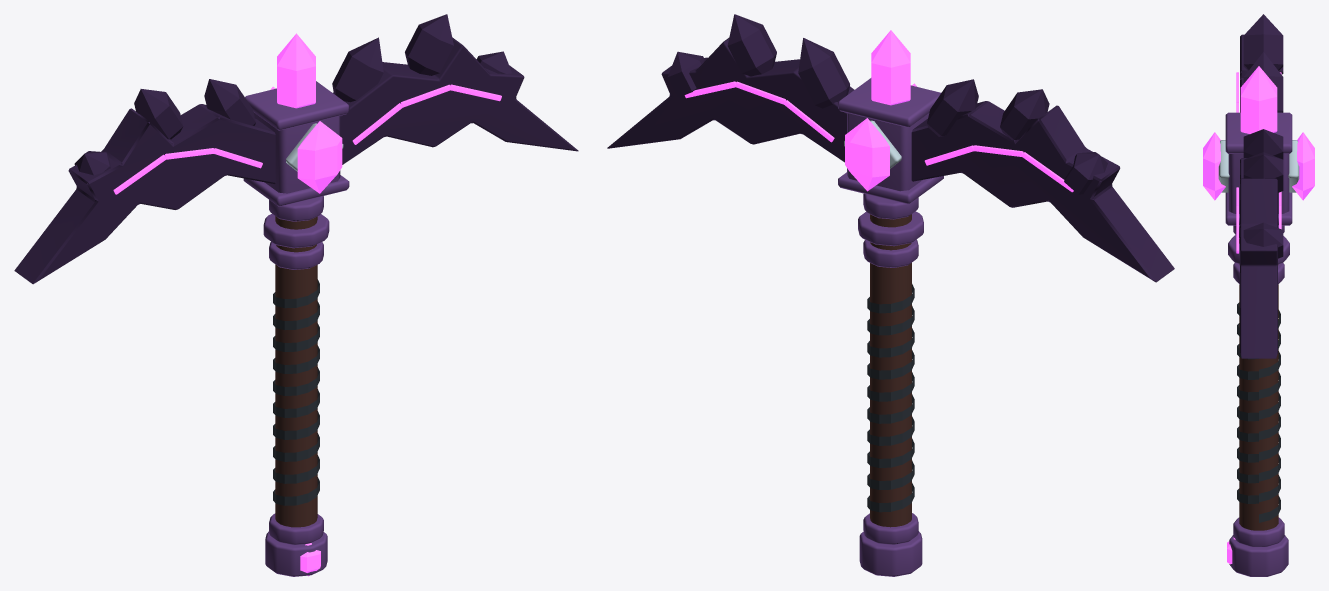
File: obsidiana.fbx
The picture shows the model from 3 angles, left to right: view 1: azimuth 30°, elevation 25°; view 2: azimuth 150°, elevation 25°; view 3: azimuth 270°, elevation 25°; orthographic projection. The views are drawn at different scales.
Visible parts, largest first — view 1: obsidiana__Obsidian_glass.001, obsidiana__Amethyst_metal.001, obsidiana__Leather.001, obsidiana__Arcane_violet.001, obsidiana__Blackened_metal.001; view 2: obsidiana__Obsidian_glass.001, obsidiana__Amethyst_metal.001, obsidiana__Leather.001, obsidiana__Arcane_violet.001, obsidiana__Blackened_metal.001; view 3: obsidiana__Obsidian_glass.001, obsidiana__Amethyst_metal.001, obsidiana__Arcane_violet.001, obsidiana__Leather.001, obsidiana__Blackened_metal.001, obsidiana__Steel_edge.001.
Part boxes in pixels (<box>): obsidiana__Obsidian_glass.001: <box>14,14,578,284</box>; obsidiana__Amethyst_metal.001: <box>243,81,349,576</box>; obsidiana__Leather.001: <box>275,216,317,527</box>; obsidiana__Arcane_violet.001: <box>113,33,501,576</box>; obsidiana__Blackened_metal.001: <box>273,279,319,505</box>; obsidiana__Obsidian_glass.001: <box>607,14,1174,282</box>; obsidiana__Amethyst_metal.001: <box>838,78,943,576</box>; obsidiana__Leather.001: <box>870,214,911,527</box>; obsidiana__Arcane_violet.001: <box>684,30,1073,192</box>; obsidiana__Blackened_metal.001: <box>867,284,914,512</box>; obsidiana__Obsidian_glass.001: <box>1240,14,1283,358</box>; obsidiana__Amethyst_metal.001: <box>1225,112,1292,576</box>; obsidiana__Arcane_violet.001: <box>1203,66,1314,564</box>; obsidiana__Leather.001: <box>1239,239,1278,530</box>; obsidiana__Blackened_metal.001: <box>1237,302,1280,522</box>; obsidiana__Steel_edge.001: <box>1218,140,1299,192</box>.
Bounding box in the file's own units: 390 × 365 × 73.59.
